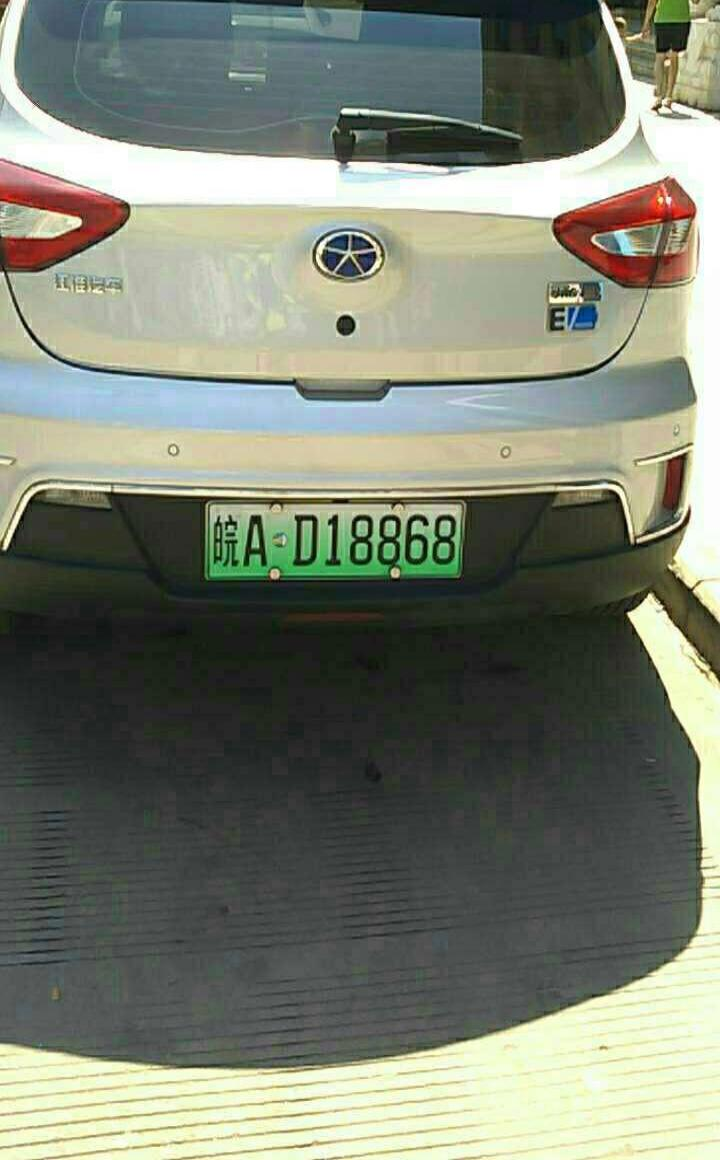car_id: (210, 505, 464, 577)
